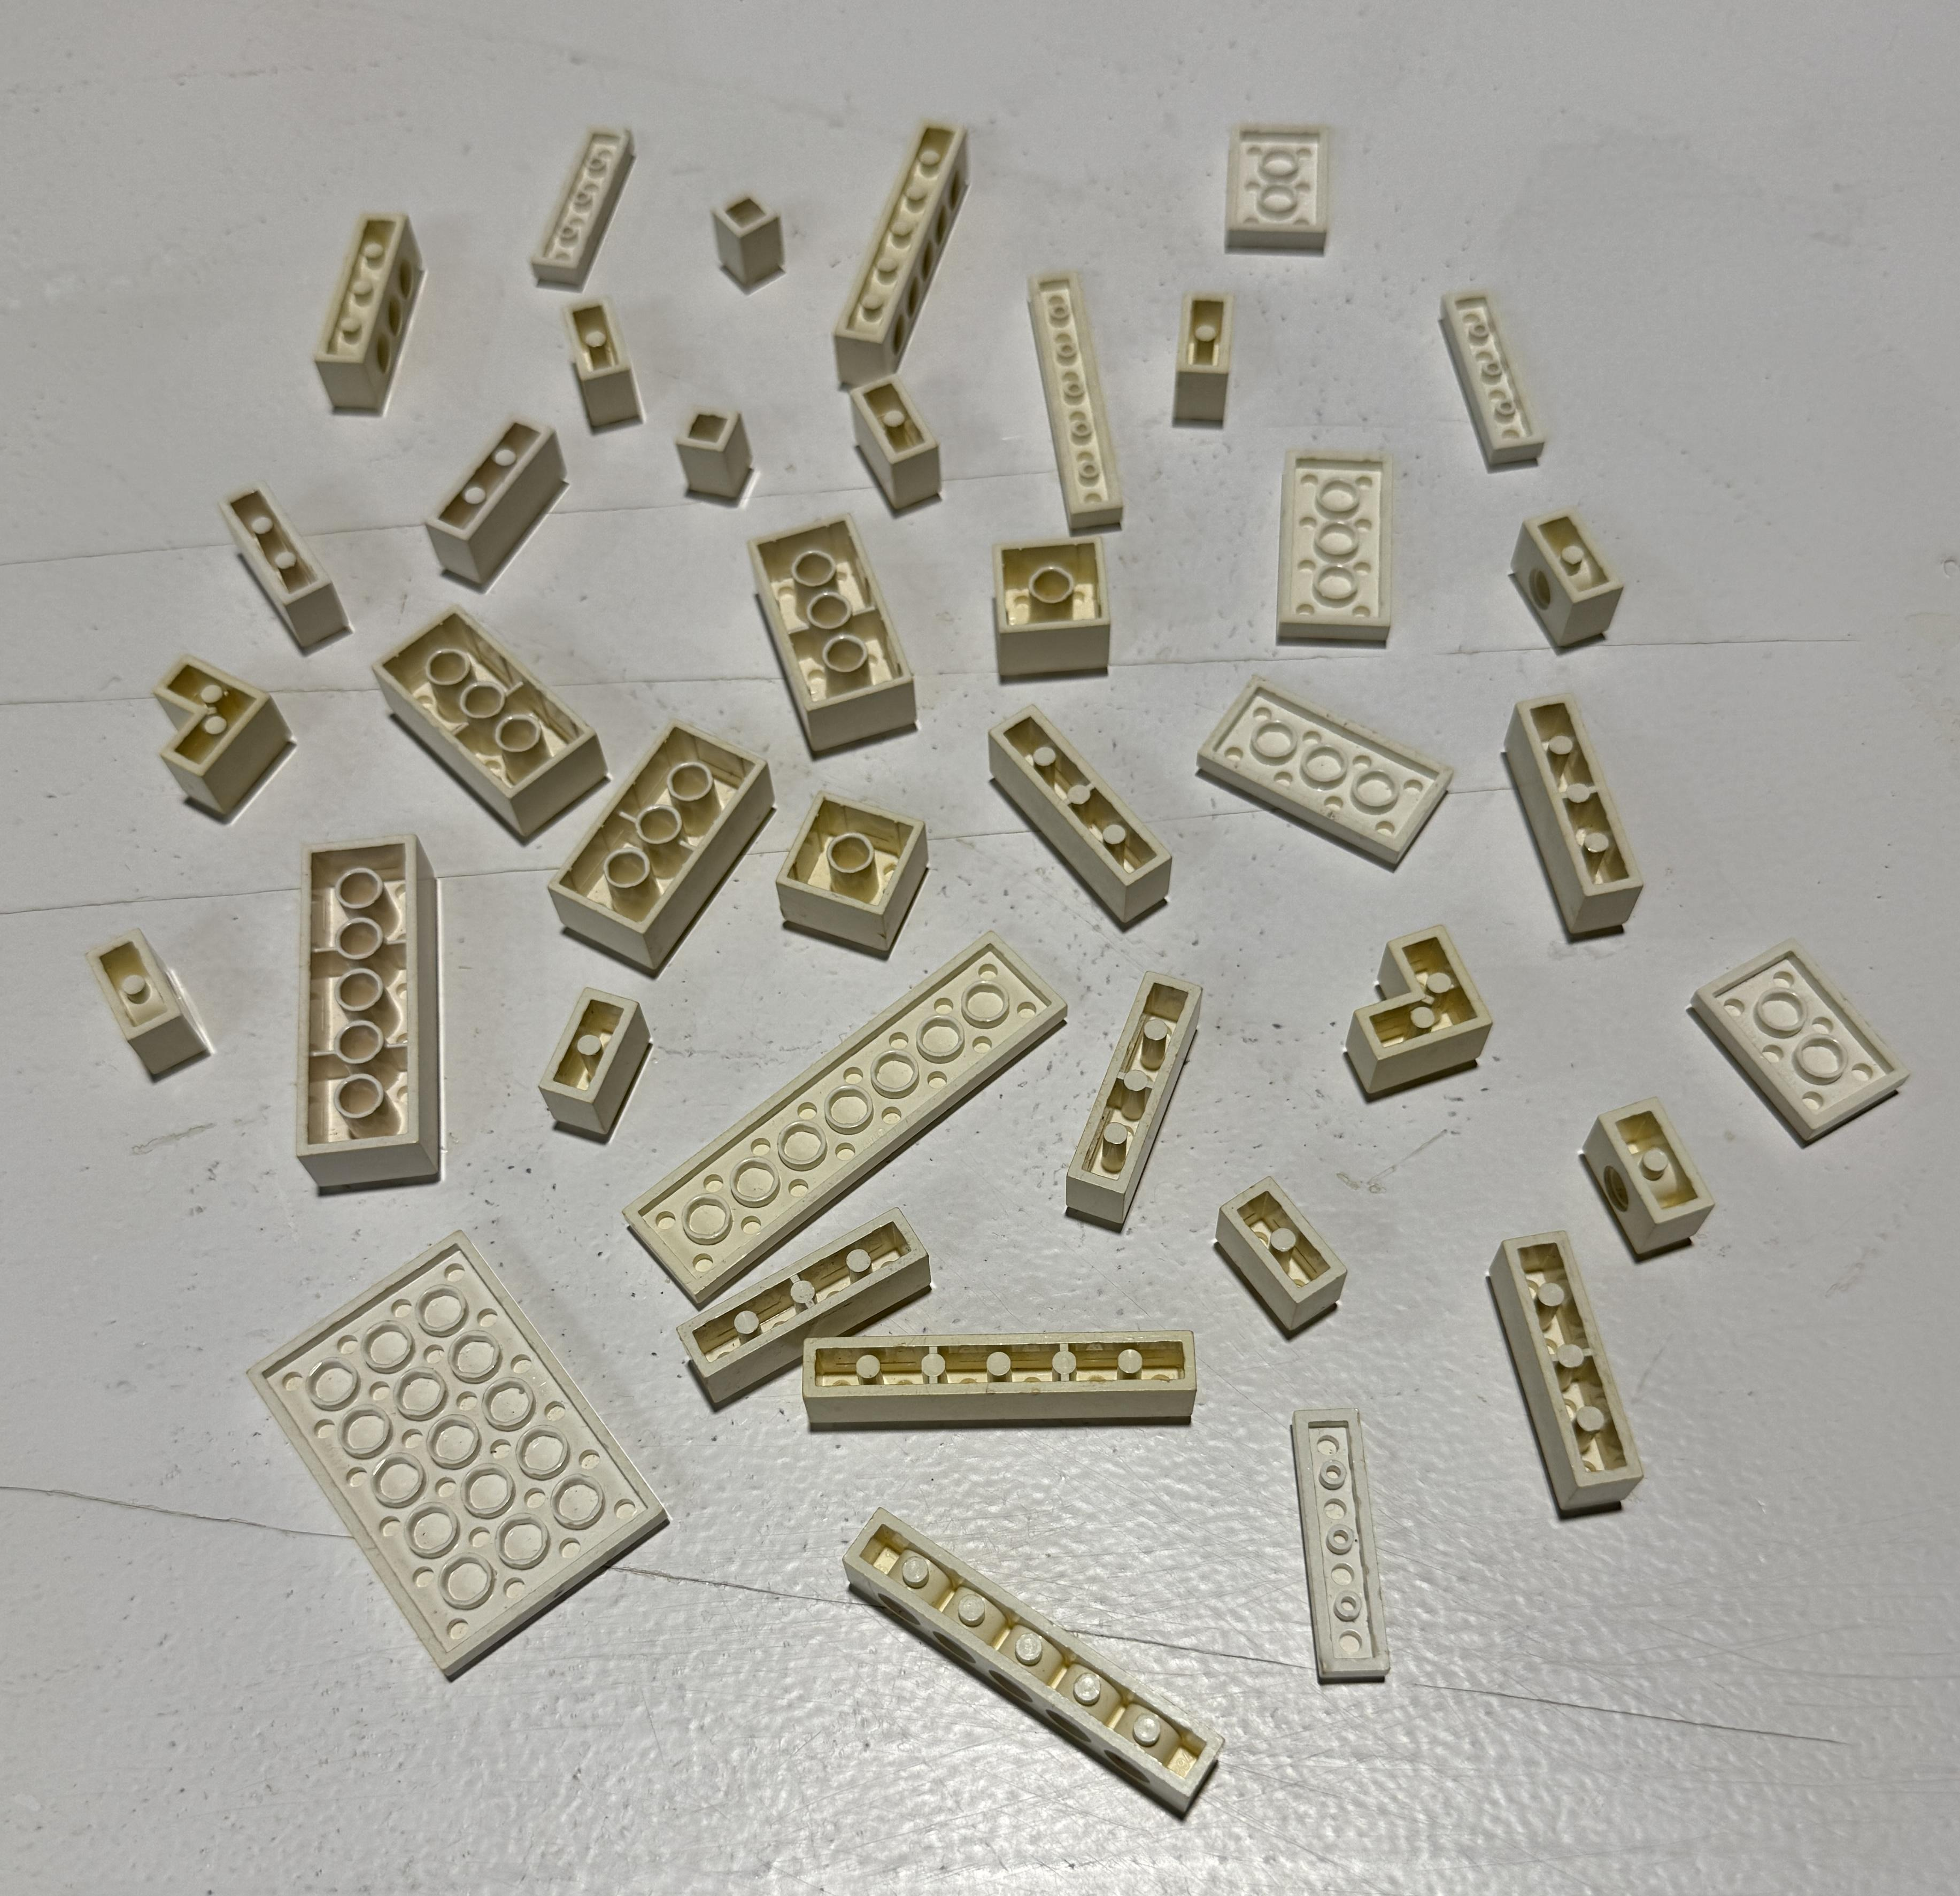brick_1x1: (653, 389, 779, 520), (690, 182, 803, 326)
brick_1x2: (1179, 1155, 1389, 1360), (47, 902, 256, 1105), (1561, 1057, 1736, 1283), (1120, 257, 1265, 471), (830, 364, 976, 544), (511, 963, 660, 1140), (535, 273, 665, 448)
brick_1x3: (198, 459, 369, 676), (406, 404, 590, 593)
brick_1x4: (1465, 1199, 1655, 1544), (973, 685, 1194, 952), (1502, 674, 1687, 991), (654, 1190, 907, 1411), (268, 161, 464, 441), (1043, 956, 1222, 1238)
brick_2x2: (759, 774, 959, 956), (959, 520, 1129, 690)
brick_2x4: (543, 702, 782, 993), (369, 588, 619, 844), (738, 492, 931, 763)
